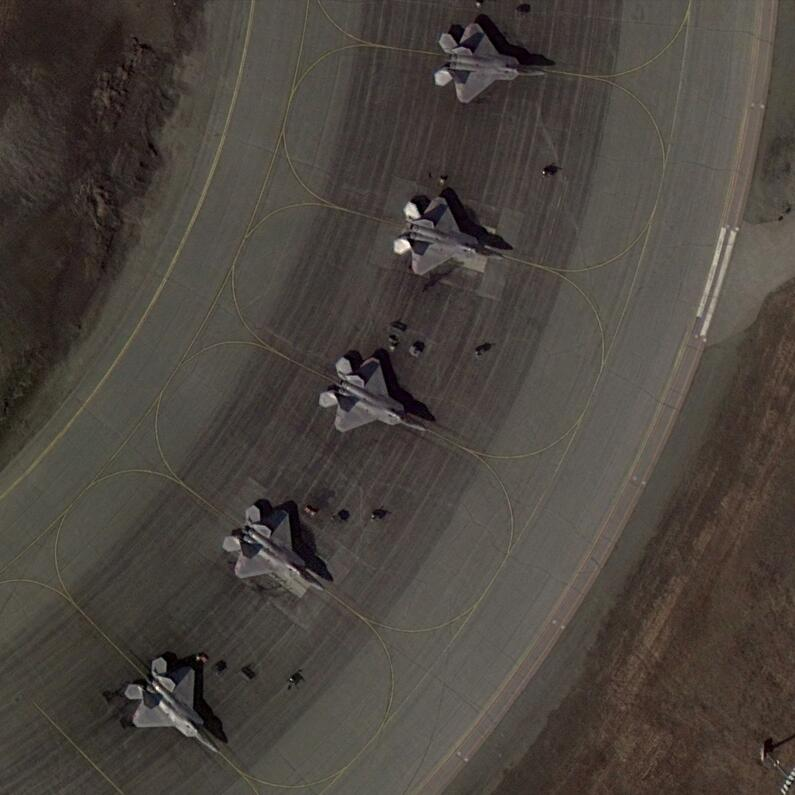A15: (218, 502, 330, 600), (123, 652, 225, 758), (394, 192, 507, 283), (435, 21, 551, 106), (319, 352, 430, 438)
